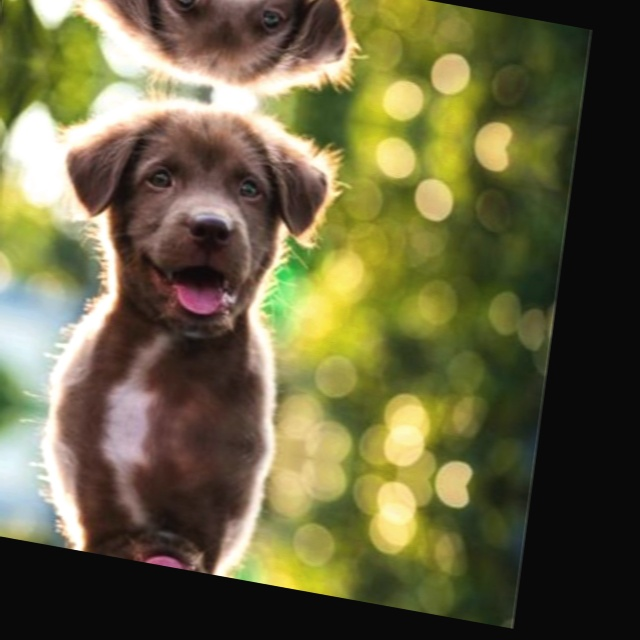dog: (43, 76, 348, 362), (75, 0, 366, 115), (13, 502, 292, 588)
